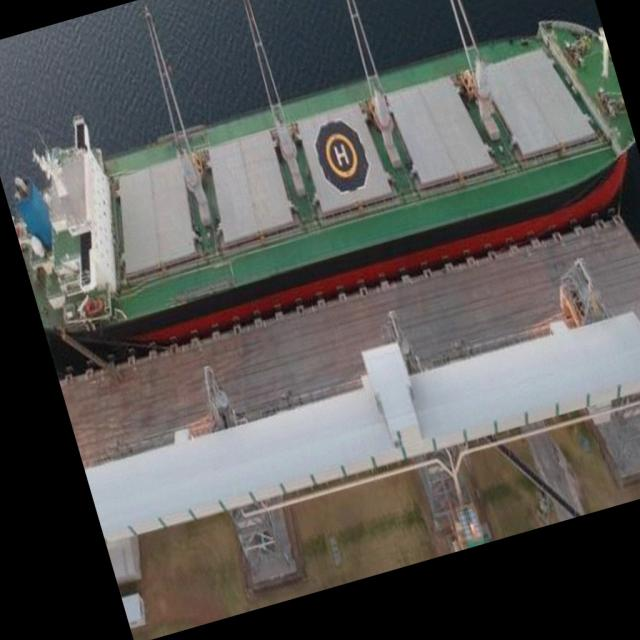helipad: (323, 130, 358, 178)
